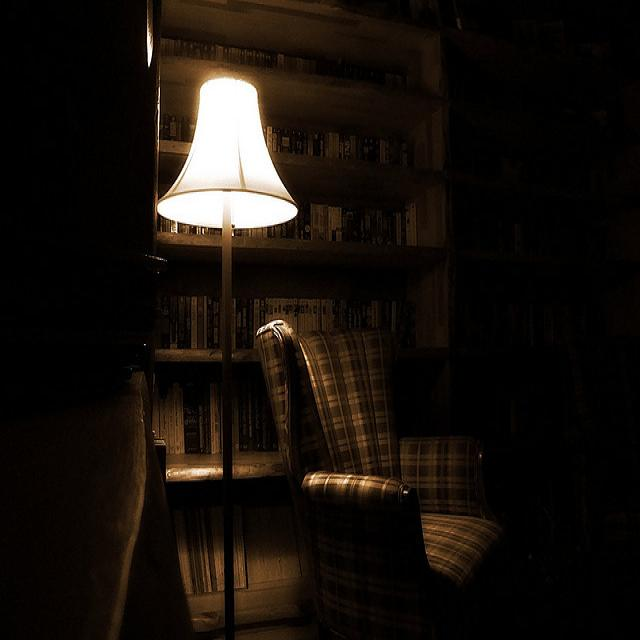chair: (255, 296, 524, 640)
